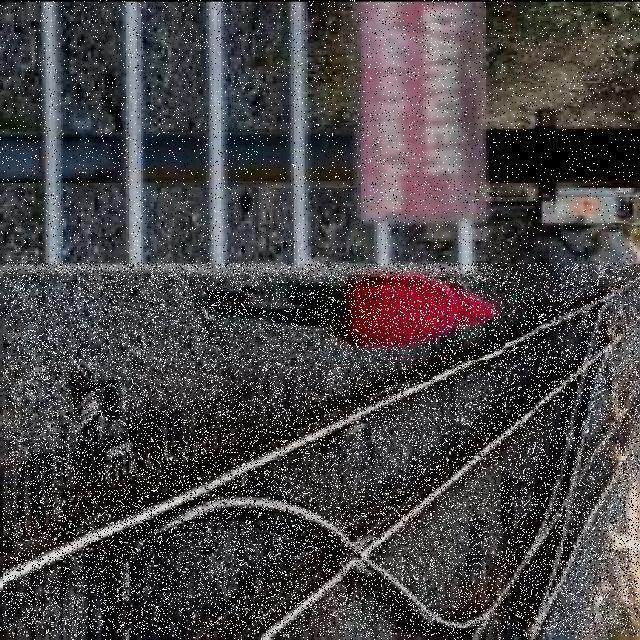rail: (4, 265, 640, 637)
